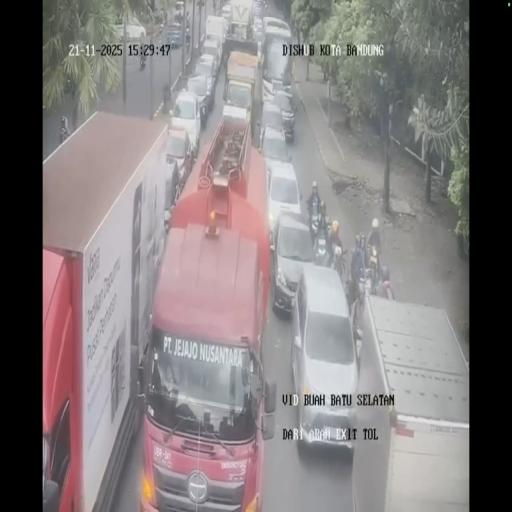3: (261, 16, 292, 74)
car: (270, 207, 318, 316), (186, 70, 214, 124), (272, 88, 296, 142), (199, 39, 221, 78), (252, 18, 264, 46), (221, 2, 231, 26), (173, 8, 182, 25)
